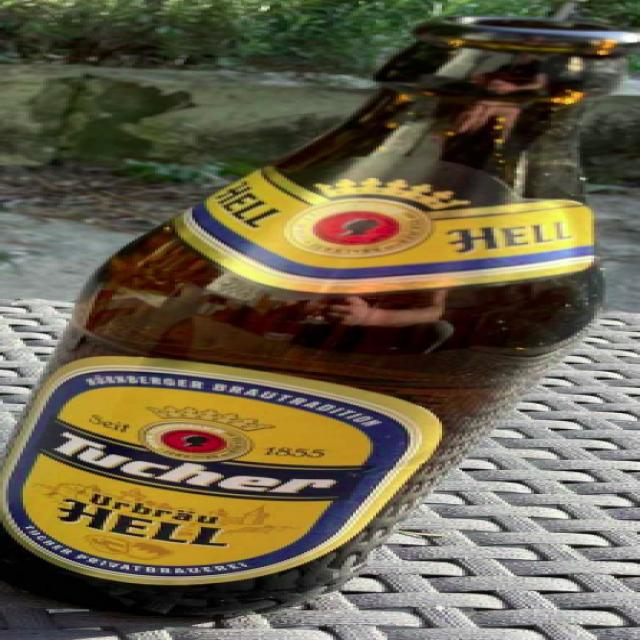Tucher Urbrau Hell: (3, 0, 640, 640)
